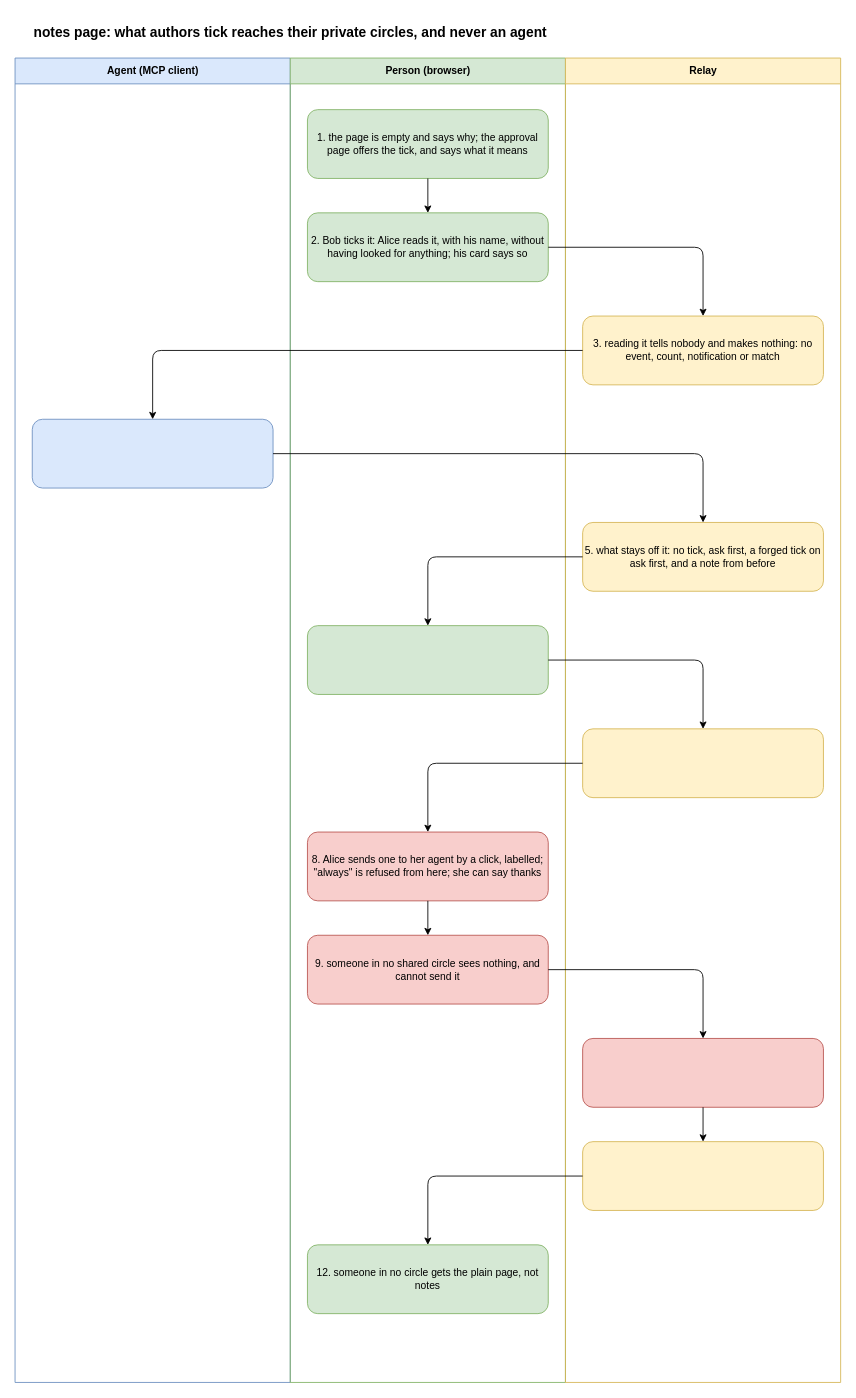
The diagram is 856 pixels wide and 1398 high, and some of its shapes have lost their labels. Here are the shapes that lost their labels. From the top down, the centre of each, then its label:
At (152,453): "4. no agent gets it: no tool for it, and nothing in what the tools return".
At (427,659): "6. a draft approved on Home takes the same tick, and only with an open note".
At (702,763): "7. a tried note shows as a warning".
At (702,1072): "10. a public circle never shows there, also when ticked".
At (702,1175): "11. it ends when access ends: retired, or the person removed from the circle".
